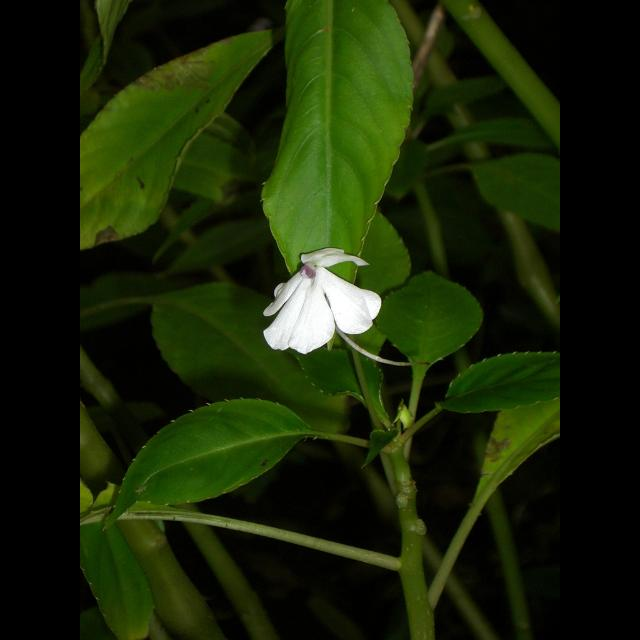Flower: (264, 230, 388, 346)
